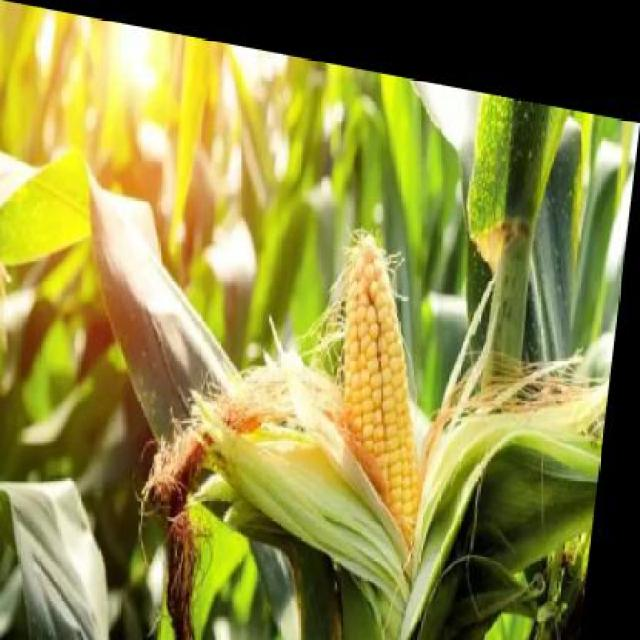Corn: (286, 187, 466, 640)
